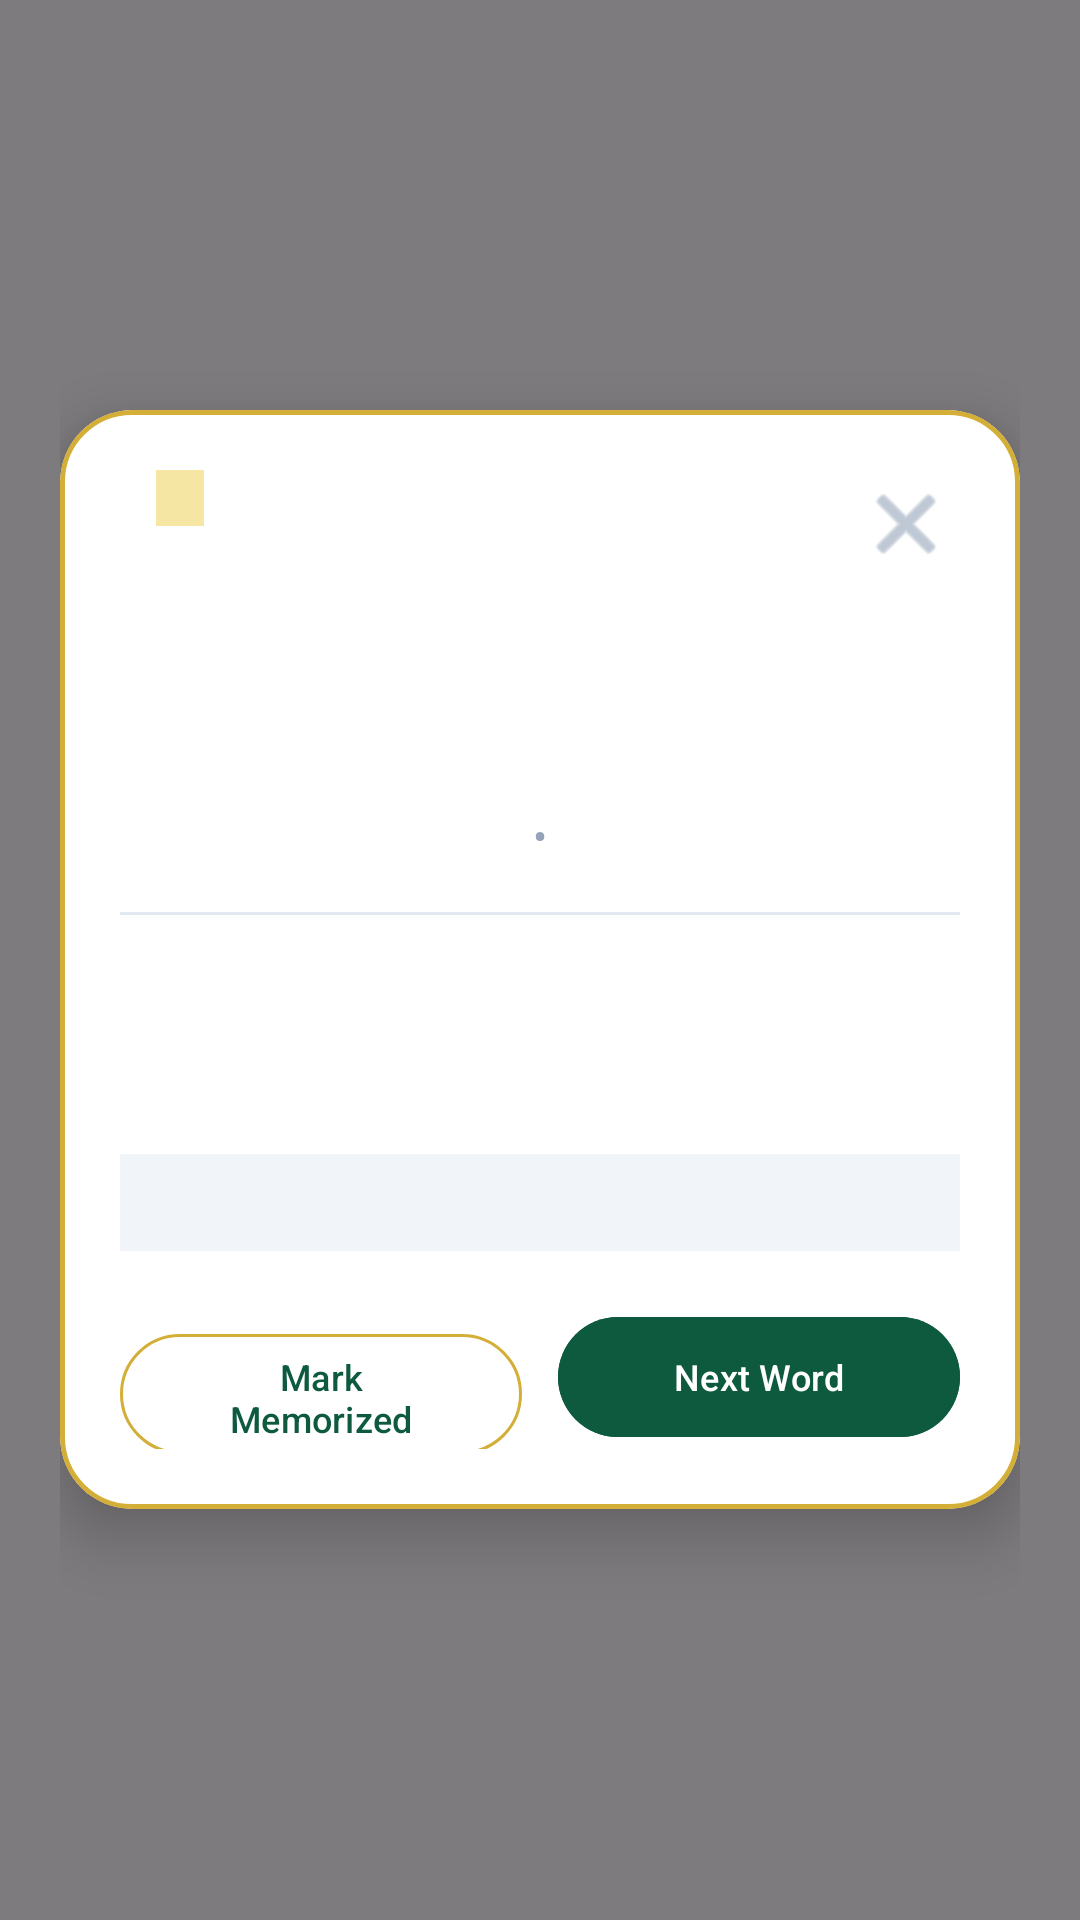

Icon bounding boxes for this 1080w x 1920h phone screenshot, format bbox(x1, y1, x2, y2):
Close: bbox(877, 495, 935, 553)
